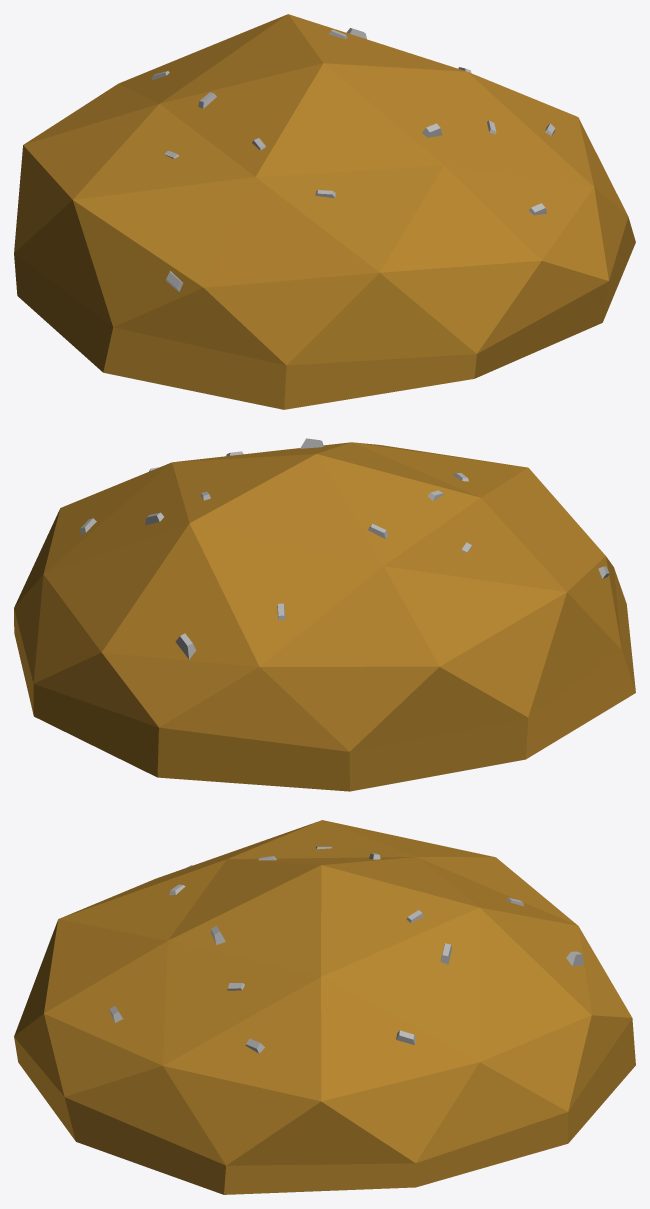
Rendered from uppre breadfbx.fbx.
The picture shows the model from 3 angles, top to bottom: view 1: azimuth 30°, elevation 25°; view 2: azimuth 150°, elevation 25°; view 3: azimuth 270°, elevation 25°; orthographic projection. The views are drawn at different scales.
Parts seen in each view (by area): view 1: Burger_Bread; view 2: Burger_Bread; view 3: Burger_Bread.
Part boxes in pixels (x1,y1,x2,y2): Burger_Bread: (14, 14, 635, 409); Burger_Bread: (14, 438, 635, 791); Burger_Bread: (14, 820, 635, 1194).
Bounding box in the file's own units: 41.27 × 15.41 × 42.48.
